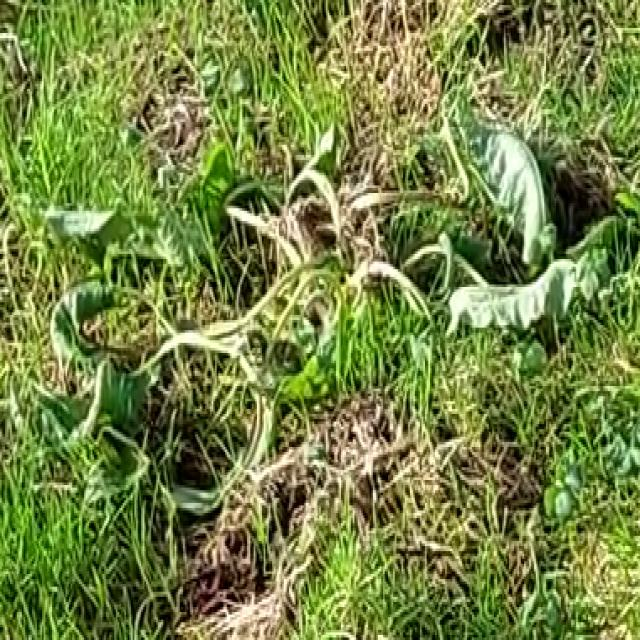organic waste: (27, 109, 618, 518)
